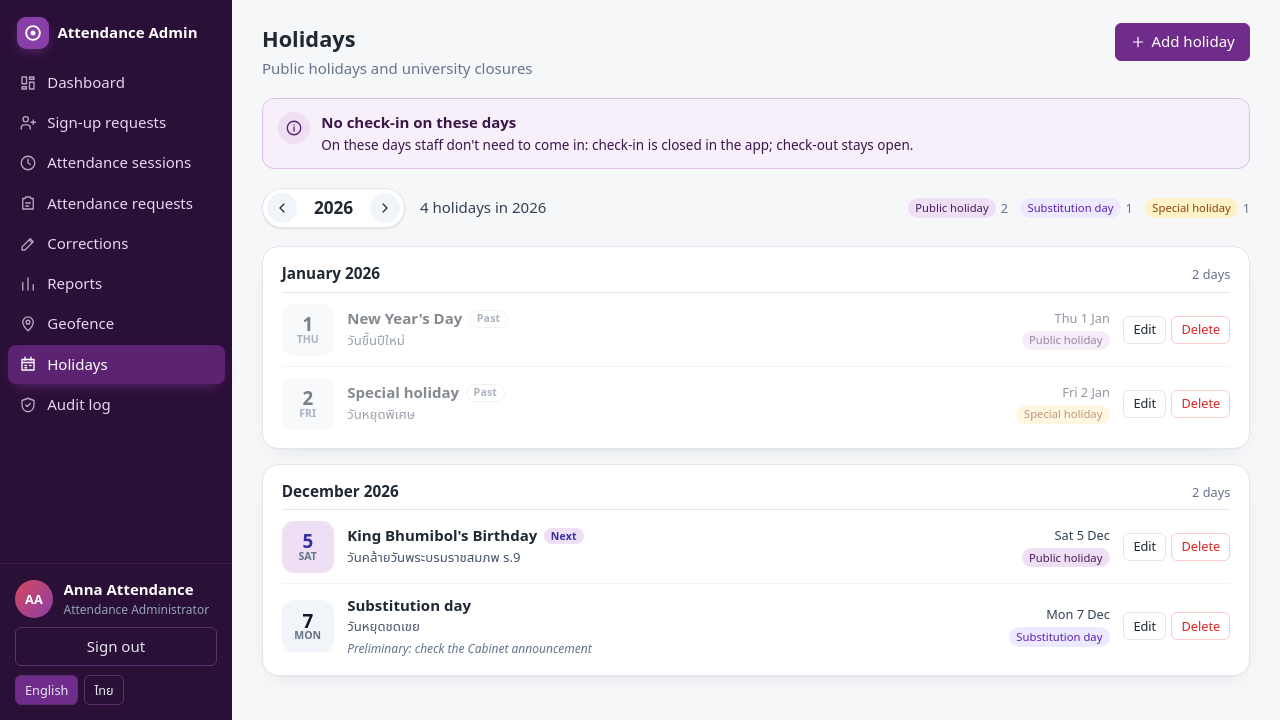
Test case: Holidays › deletes a holiday after confirmation
Click the button with aria-label "Delete Special holiday".
click(1201, 404)  # box [1172,390,1230,418]
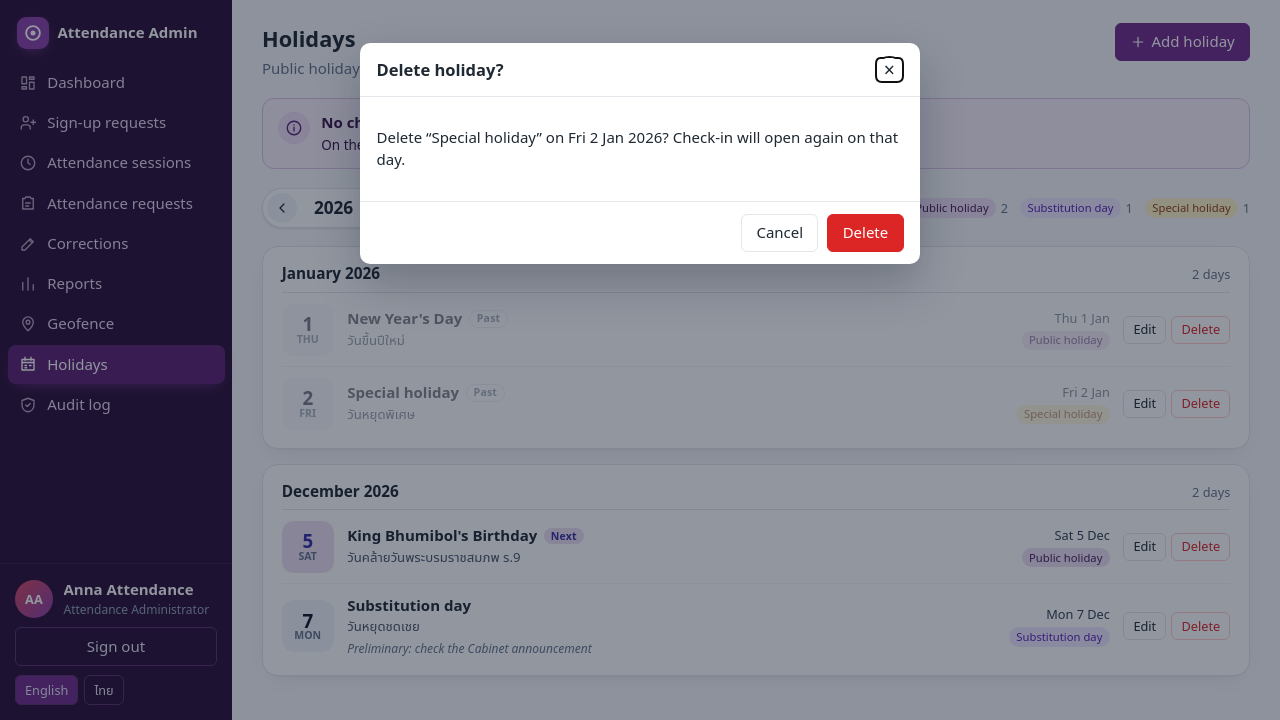
Now the dialog "Delete holiday?" shows "Check-in will open again on that day.", box [376,127,898,169]
Click the button "Delete".
click(865, 233)  # box [827,214,904,252]
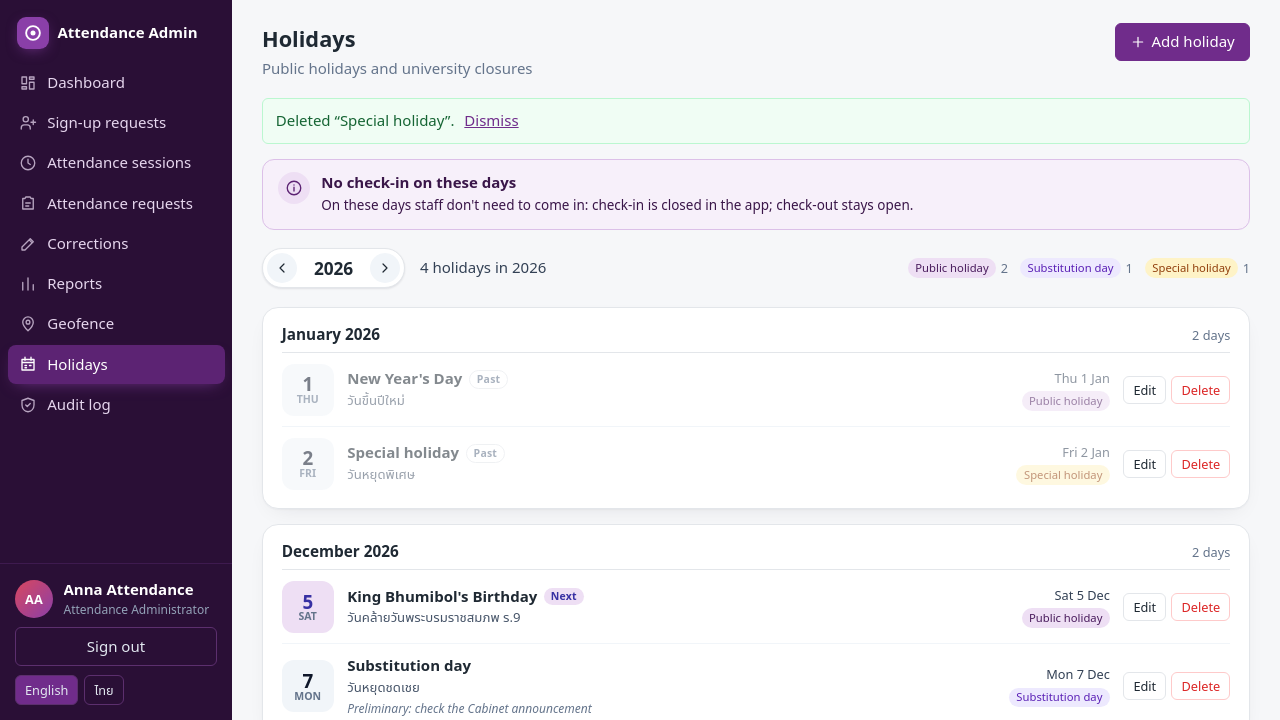
Now the message shows "Deleted “Special holiday”.", box [276,110,454,130]
